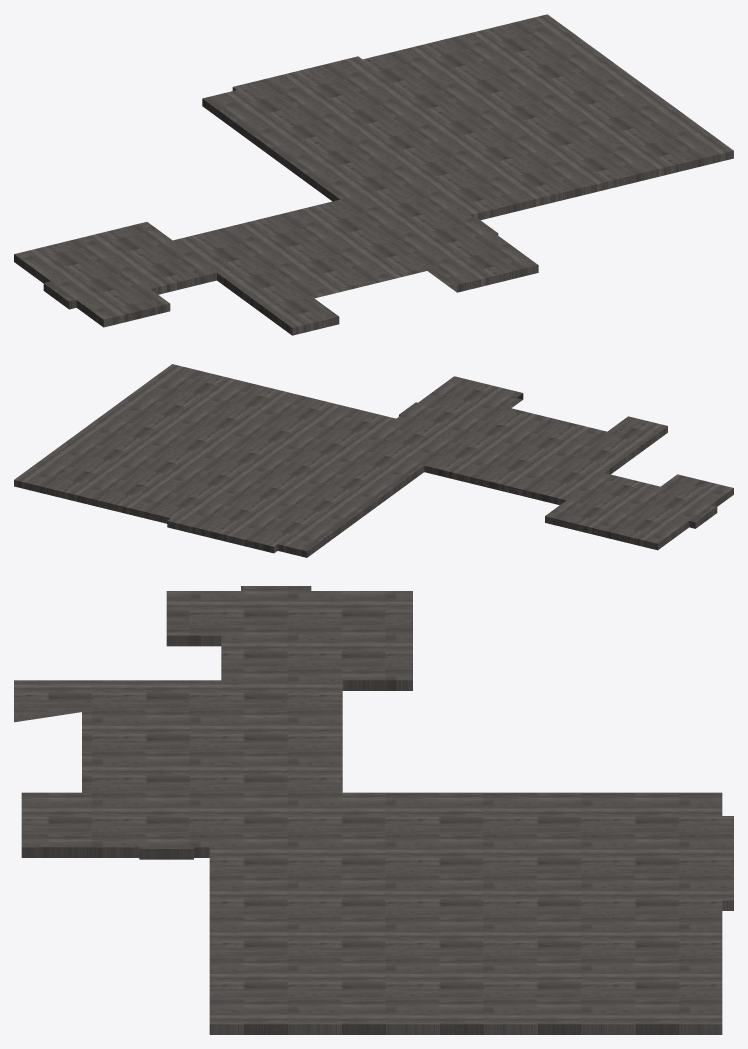
The model's file is Floor_CastinePlusWhitefillOak.glb.
3 renders of one model, top to bottom at view 1: azimuth 30°, elevation 25°; view 2: azimuth 150°, elevation 25°; view 3: azimuth 270°, elevation 25°, orthographic. The views are drawn at different scales.
Parts seen in each view (by area): view 1: Floor_Castine Cove Plus 7Whitefill Oak; view 2: Floor_Castine Cove Plus 7Whitefill Oak; view 3: Floor_Castine Cove Plus 7Whitefill Oak.
Part boxes in pixels (bbox=[...]): Floor_Castine Cove Plus 7Whitefill Oak: bbox=[14, 14, 733, 335]; Floor_Castine Cove Plus 7Whitefill Oak: bbox=[14, 364, 733, 557]; Floor_Castine Cove Plus 7Whitefill Oak: bbox=[14, 586, 733, 1034].
Size of the model in its own units: 26.5 by 0.3 by 18.4.
1 material, 1 textured.
